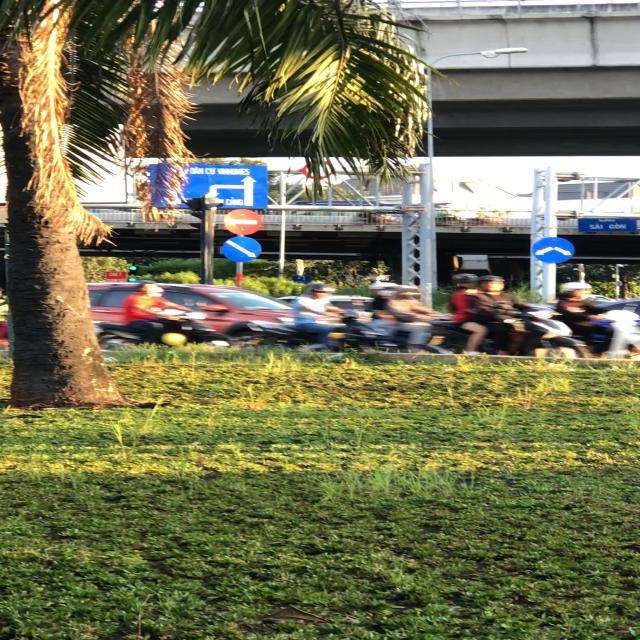Bien bao cam di nguoc chieu: (223, 208, 263, 234)
Bien bao huong phai di vong chuong ngai vat: (526, 234, 578, 264), (220, 237, 271, 263)
